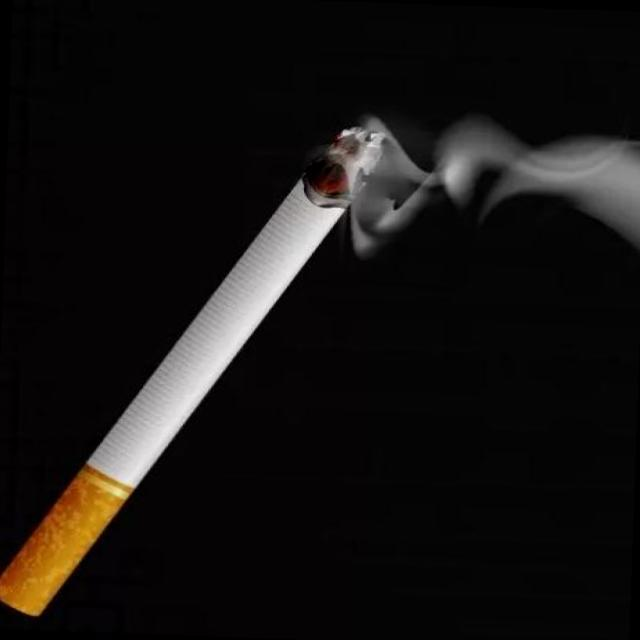cigarette: (0, 112, 405, 633)
